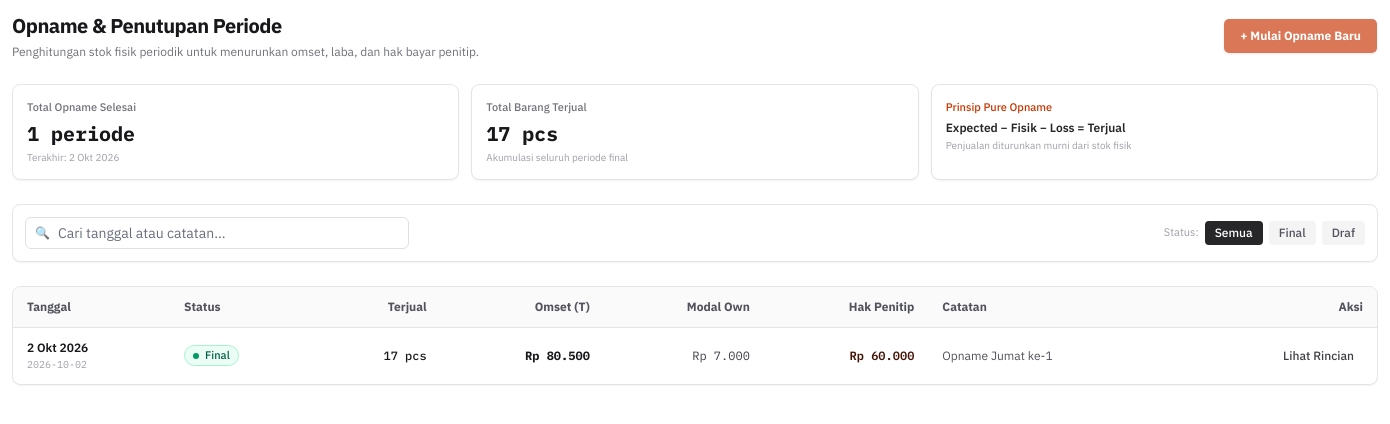
Scenario: Opname Frontend › OpnamePage › opens wizard when clicking + Mulai Opname Baru
This screenshot has width=1390, height=424.
Expected: the heading "Opname & Penutupan Periode" is shown, [12,12,282,39]
Click the button "+ Mulai Opname Baru".
click(1301, 36)  # box [1223,18,1378,54]
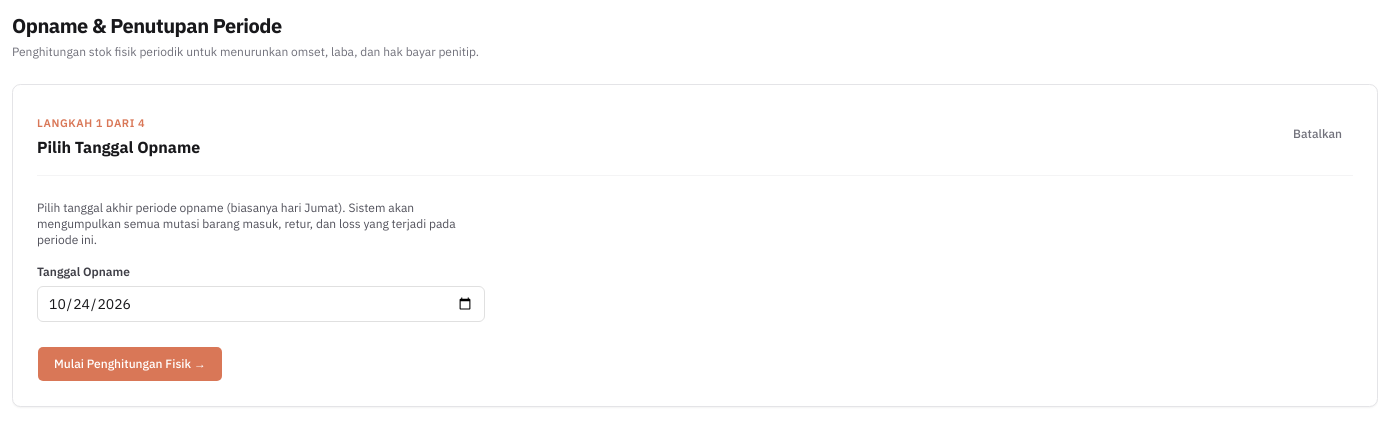
Now the heading "Pilih Tanggal Opname" is shown, box [37,135,200,159]
Now the button "Mulai Penghitungan Fisik →" is shown, box [37,346,223,382]
